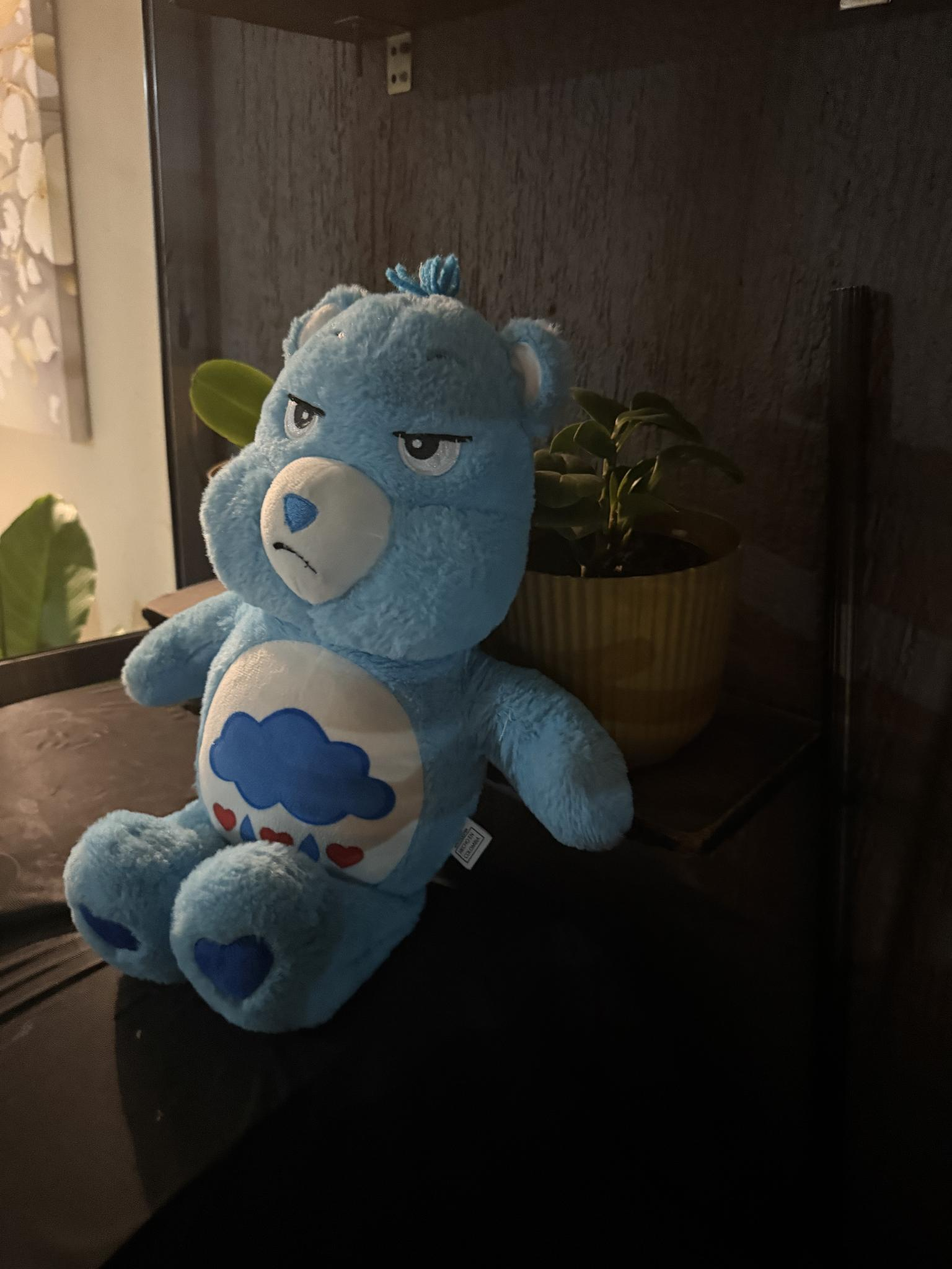peluche_Juan Jose: (60, 260, 644, 1049)
